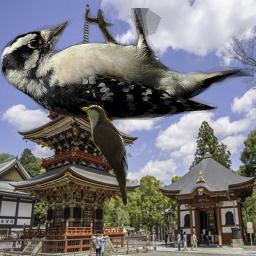Cuckoo: (79, 104, 130, 208)
Woodpecker: (1, 8, 254, 120)
